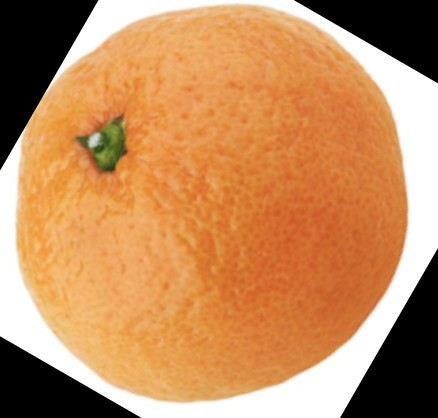fresh_orange: (21, 6, 409, 402)
